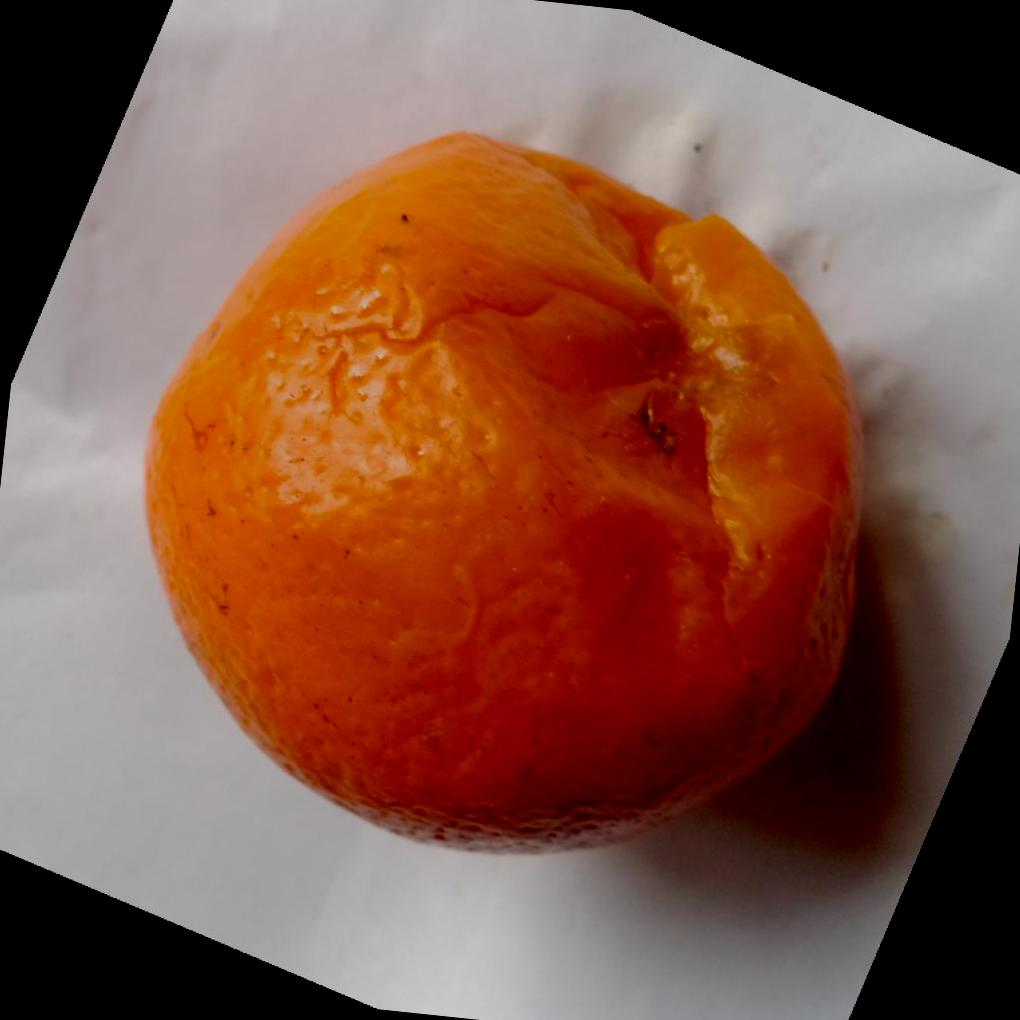FreshOrange: (138, 131, 865, 861)
